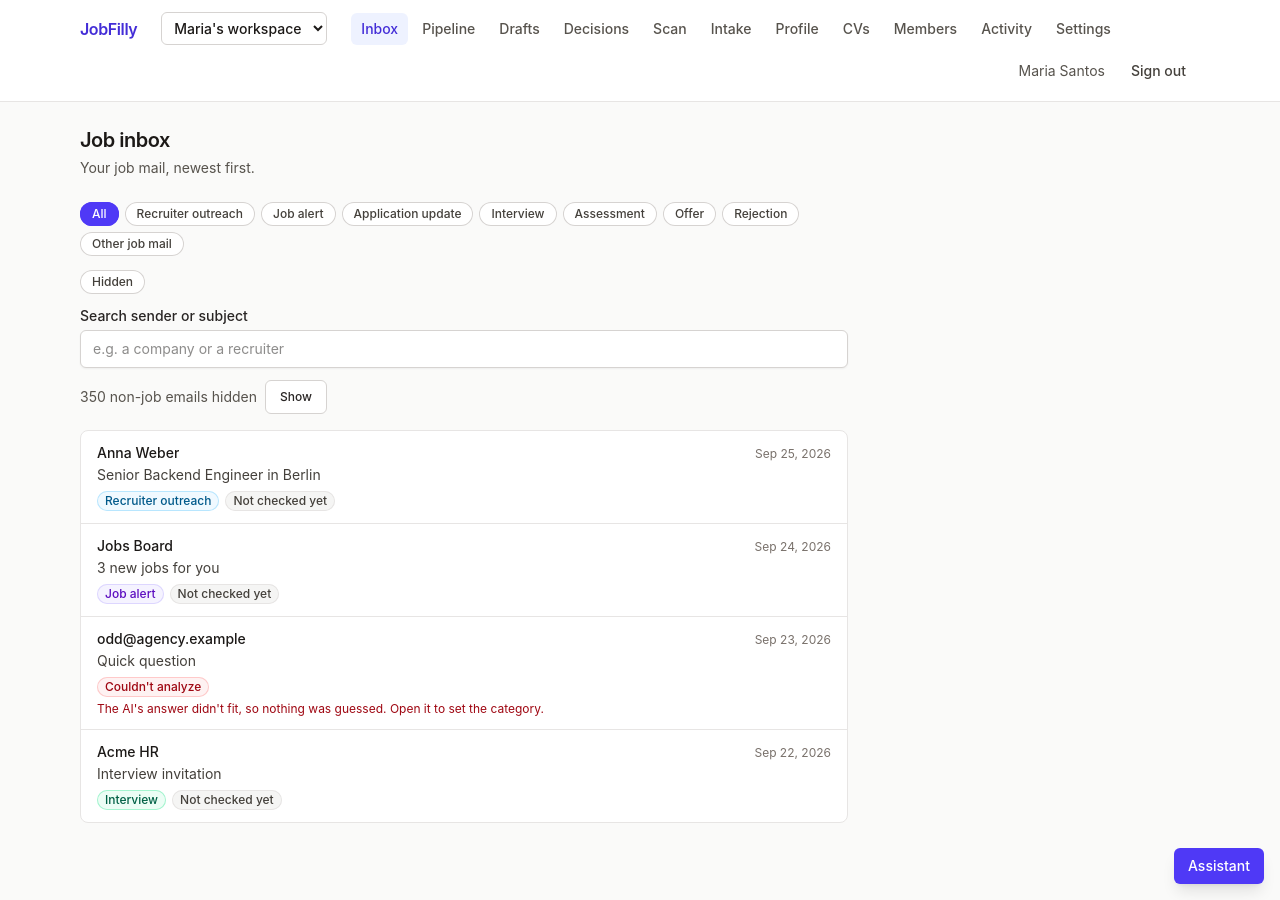
Scenario: the list (F5.1) › searches by sender or subject (F5.5)
This screenshot has width=1280, height=900.
Type "acme" into the search field labelled "Search sender or subject" at {"x": 464, "y": 349}, box x1=80 y1=330 x2=848 y2=368
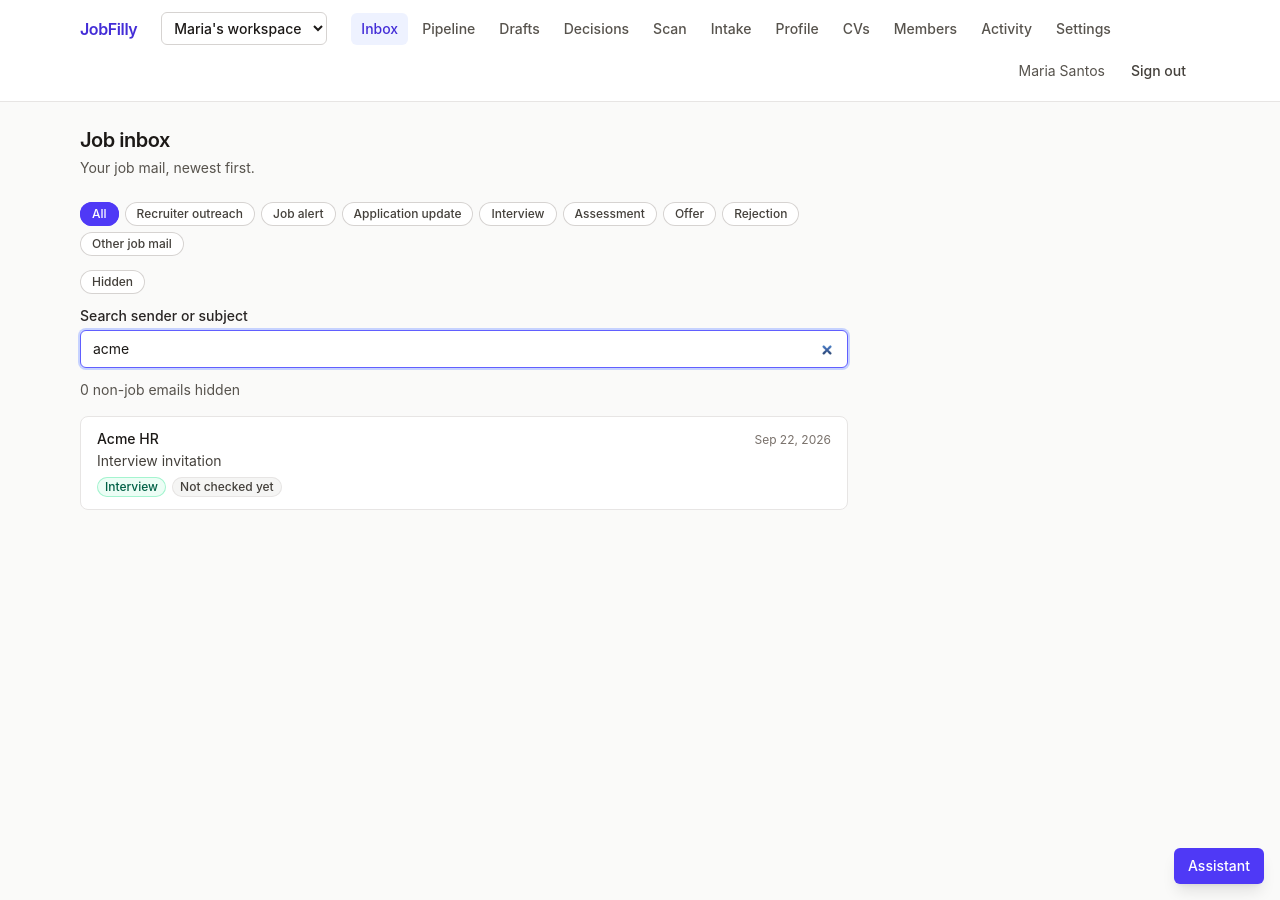
Expected: the text "Interview invitation" is shown, x1=97 y1=452 x2=222 y2=469
Expected: the link "Anna Weber" is gone
Replace the text in the search field labelled "Search sender or subject" with "nothing like it" at {"x": 464, "y": 349}, box x1=80 y1=330 x2=848 y2=368
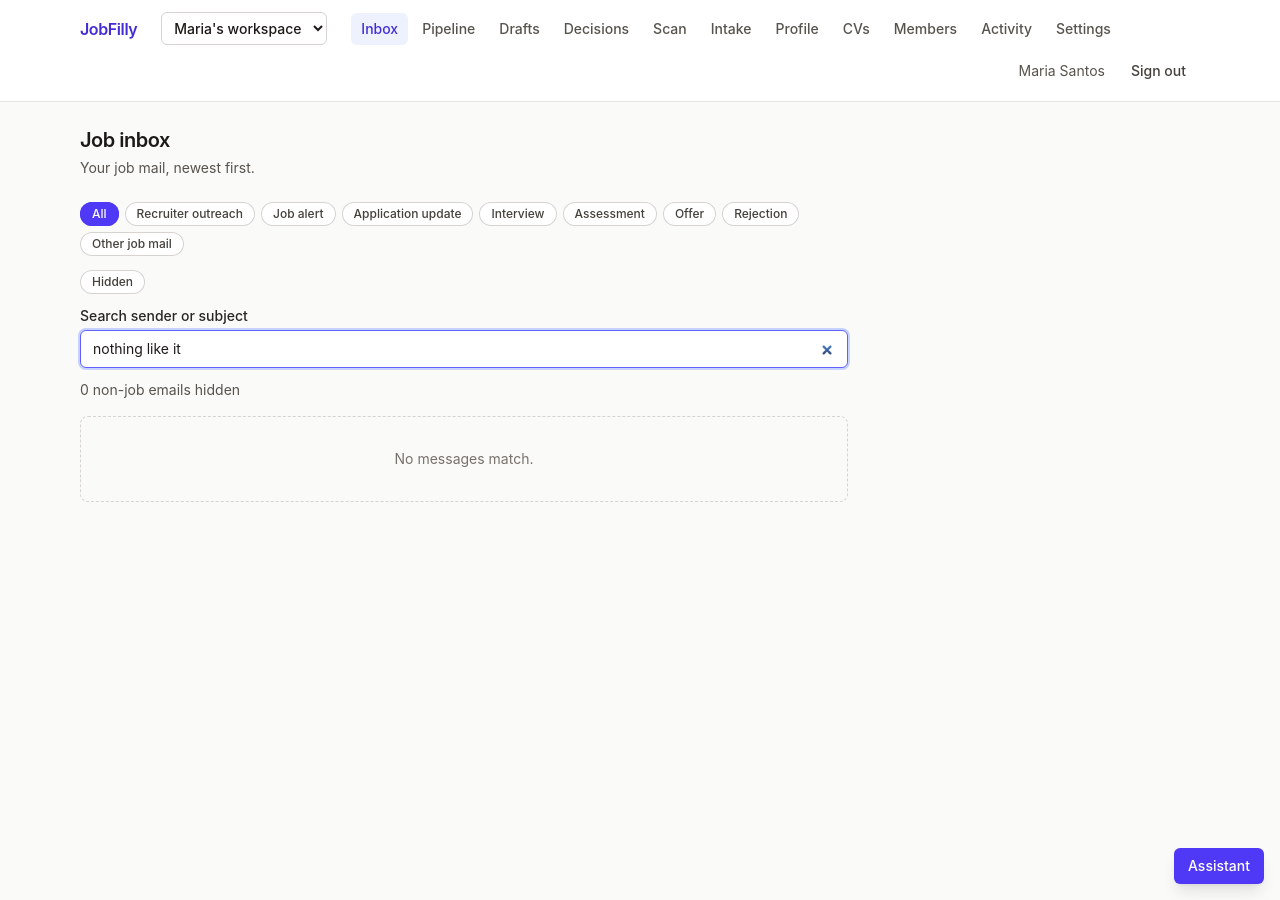
Expected: the text "No messages match." is shown, x1=80 y1=416 x2=848 y2=502
